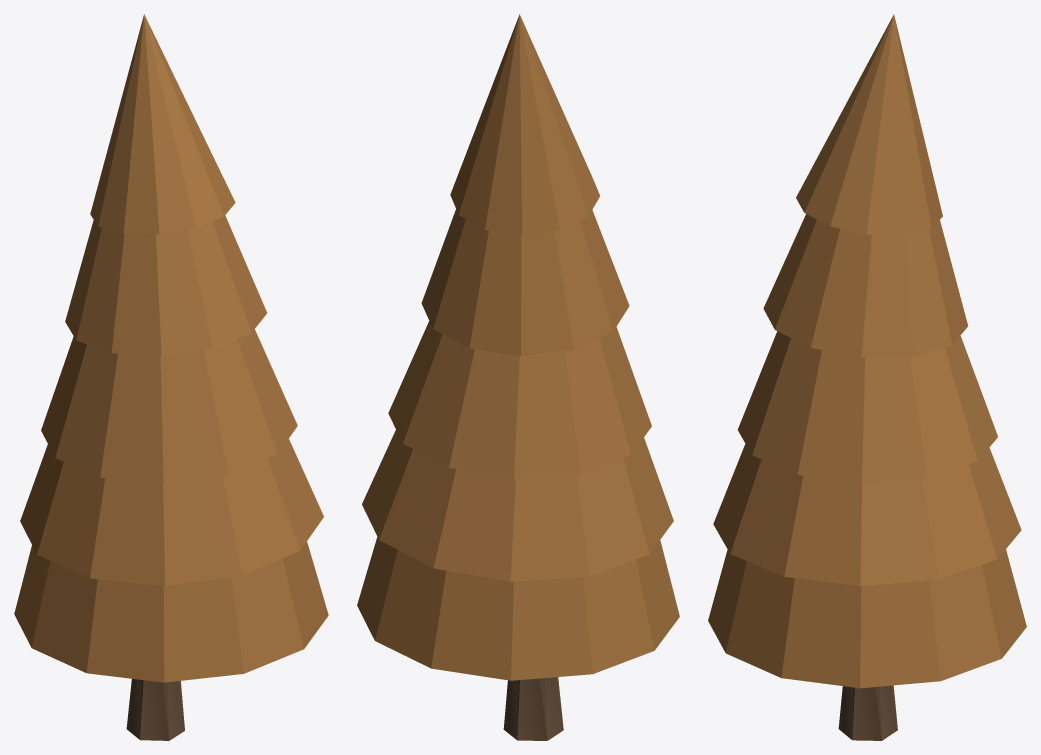
Rendered from tree_conifer_orange_2.glb.
3 renders of one model, left to right at view 1: azimuth 30°, elevation 25°; view 2: azimuth 150°, elevation 25°; view 3: azimuth 270°, elevation 25°, orthographic. The views are drawn at different scales.
Parts seen in each view (by area): view 1: Tree Conifer 2.027; view 2: Tree Conifer 2.027; view 3: Tree Conifer 2.027.
Boxes of the visible parts, x1,y1,x2,y2 form: Tree Conifer 2.027: (14,14,328,740); Tree Conifer 2.027: (357,14,679,740); Tree Conifer 2.027: (708,14,1026,740).
Bounding box in the file's own units: 0.1756 × 0.4352 × 0.1756.
